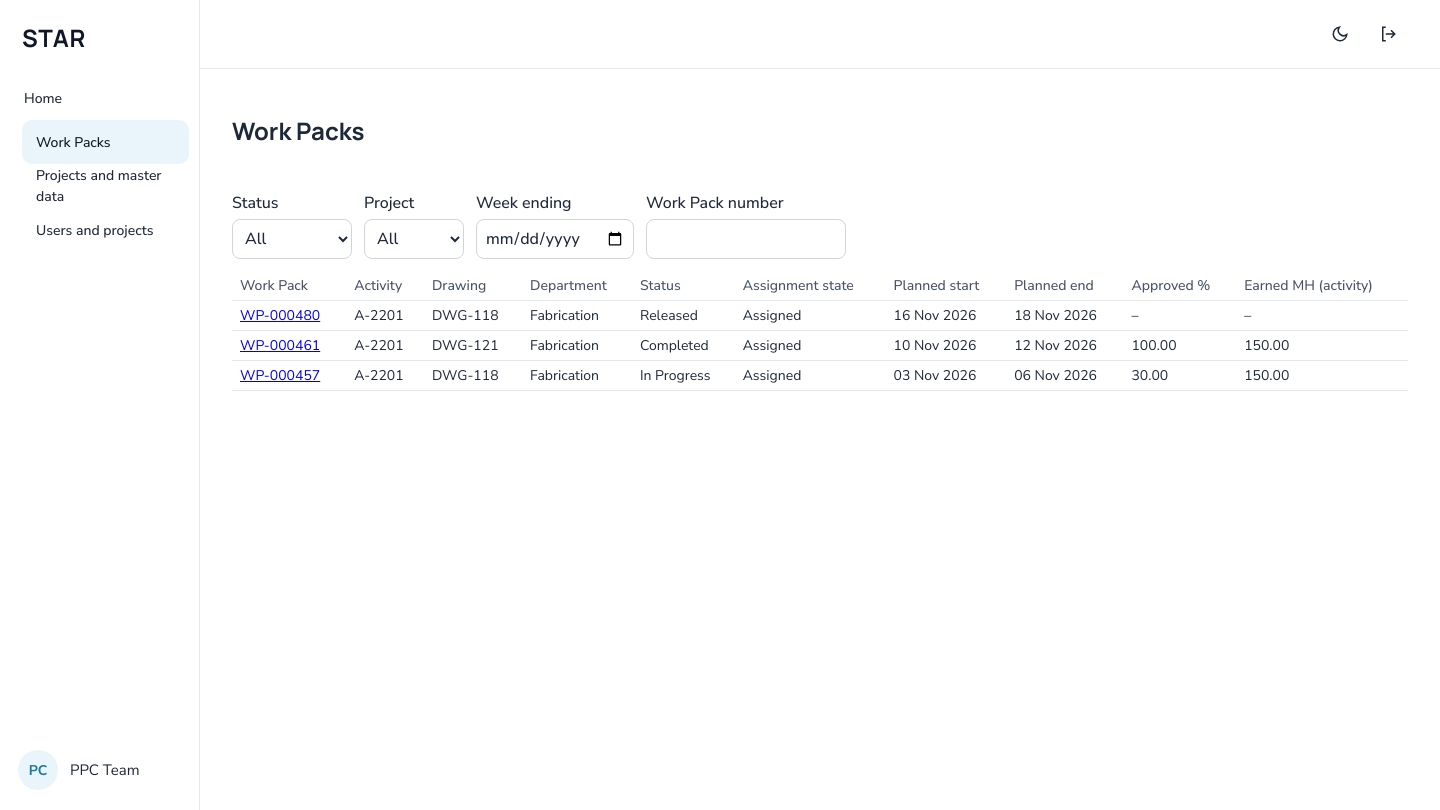
Test case: WorkPacksPage › BPA72_unknownNumber
The width and height of the screenshot is (1440, 810).
Expected: the table named "Work Packs" is shown, [232, 271, 1408, 391]
Type "WP-999999" into the search field labelled "Work Pack number" at (746, 239), box [646, 219, 846, 259]
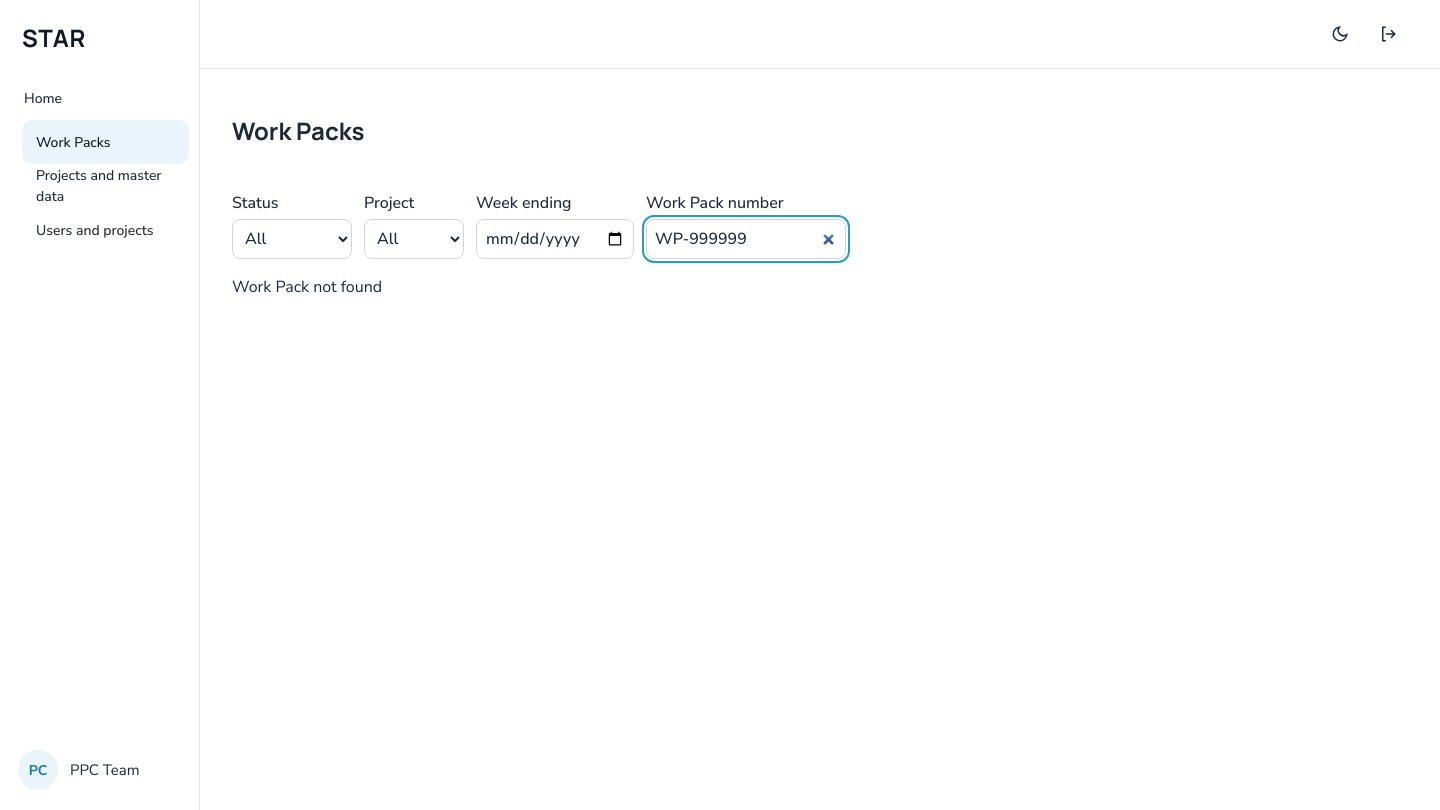
Now the text "Work Pack not found" is shown, box [232, 276, 382, 298]
Now the link "WP-0004" is gone
